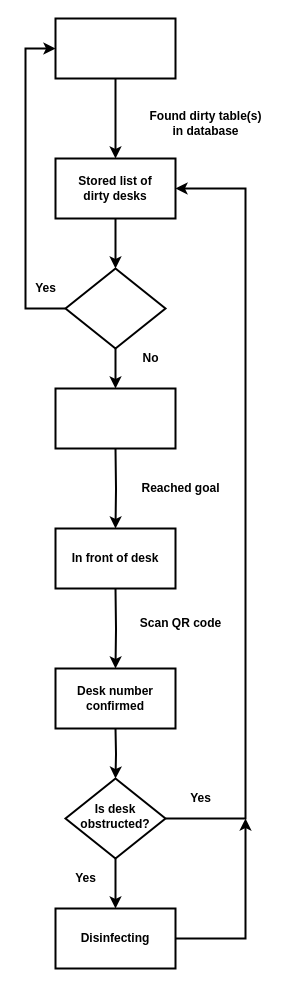
Image size: 287x986. Some labels were removed from this diagram. The shapes that lost their labels are listed below. From the top down, each one's centre as x and y in pixels, then its label:
At (115,48): "Idle (Query database at interval)".
At (115,308): "List empty?".
At (115,418): "Moving to closest desk".
